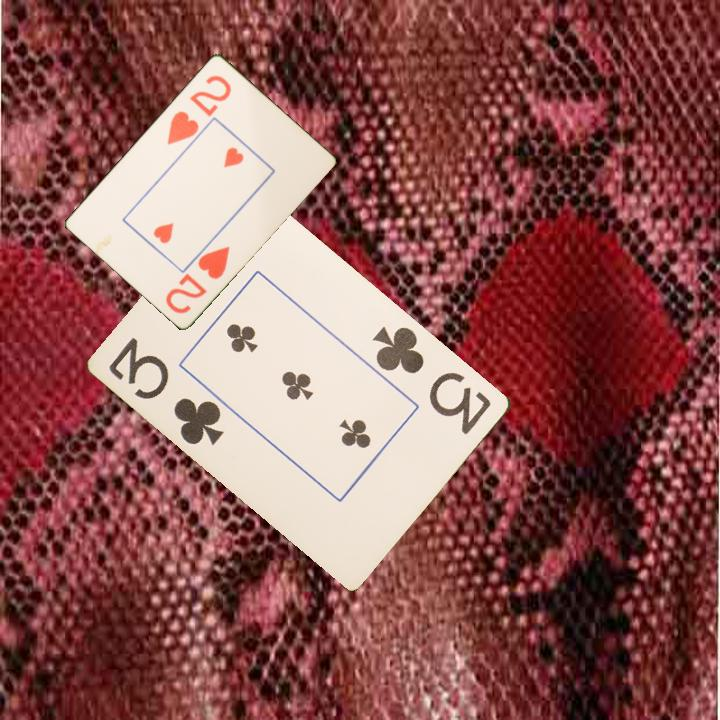2h: (163, 71, 234, 148), (162, 242, 233, 316)
3c: (369, 322, 495, 438), (105, 333, 228, 449)
